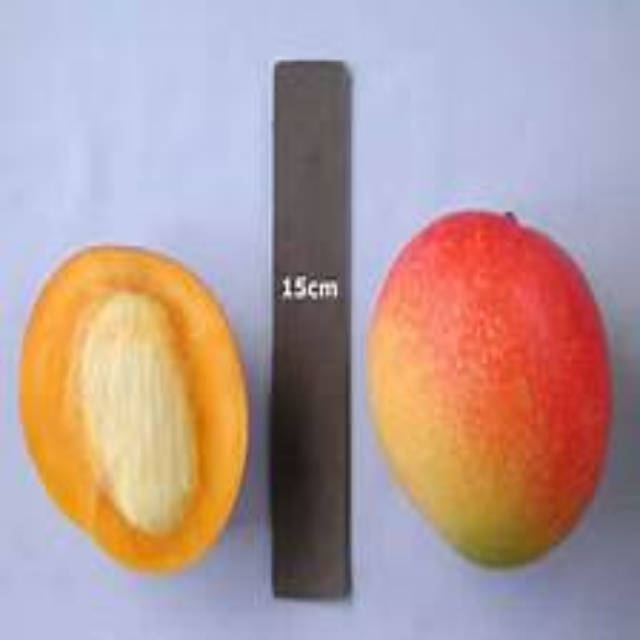mango: (367, 207, 612, 569), (21, 247, 251, 570)
